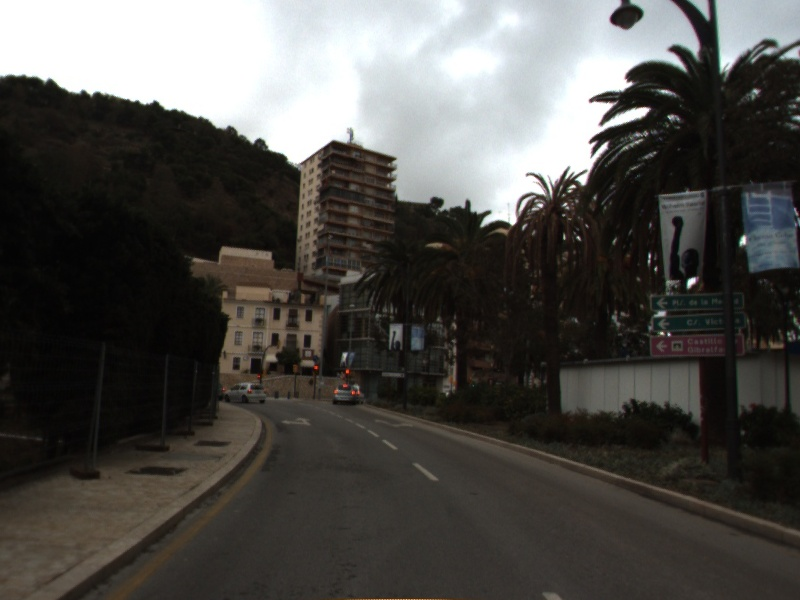STRAIGHT_LEFT: (278, 414, 315, 428)
STRAIGHT_RIGHT: (372, 416, 417, 431)
